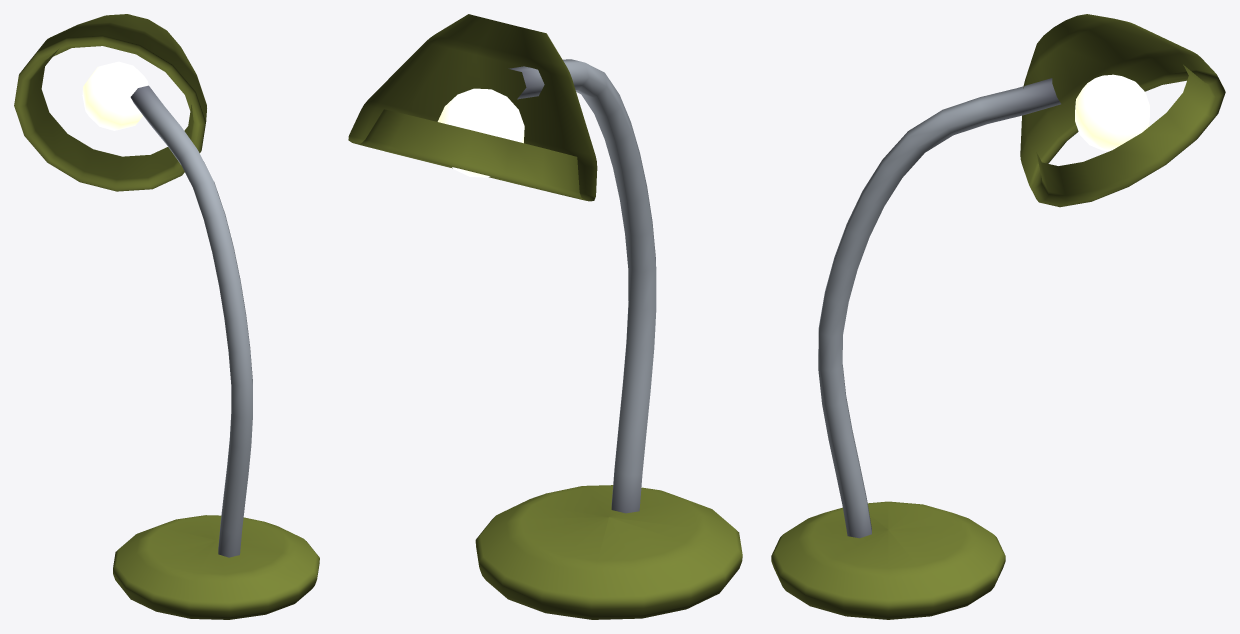
File: nm_desk_lamp__058.glb
3 renders of one model, left to right at view 1: azimuth 30°, elevation 25°; view 2: azimuth 150°, elevation 25°; view 3: azimuth 270°, elevation 25°, orthographic. The views are drawn at different scales.
Parts seen in each view (by area): view 1: merged_toon_ffffff, prop_nm_desk_lamp, group; view 2: merged_toon_ffffff, prop_nm_desk_lamp, group; view 3: merged_toon_ffffff, prop_nm_desk_lamp, group.
Boxes of the visible parts, x1=… form: merged_toon_ffffff: x1=14, y1=14, x2=319, y2=619; prop_nm_desk_lamp: x1=130, y1=85, x2=252, y2=557; group: x1=82, y1=61, x2=148, y2=130; merged_toon_ffffff: x1=348, y1=14, x2=742, y2=619; prop_nm_desk_lamp: x1=508, y1=59, x2=656, y2=513; group: x1=437, y1=88, x2=524, y2=177; merged_toon_ffffff: x1=771, y1=14, x2=1225, y2=619; prop_nm_desk_lamp: x1=818, y1=78, x2=1060, y2=538; group: x1=1075, y1=74, x2=1149, y2=151.
Size of the model in its own units: 0.1671 by 0.4359 by 0.3238.
